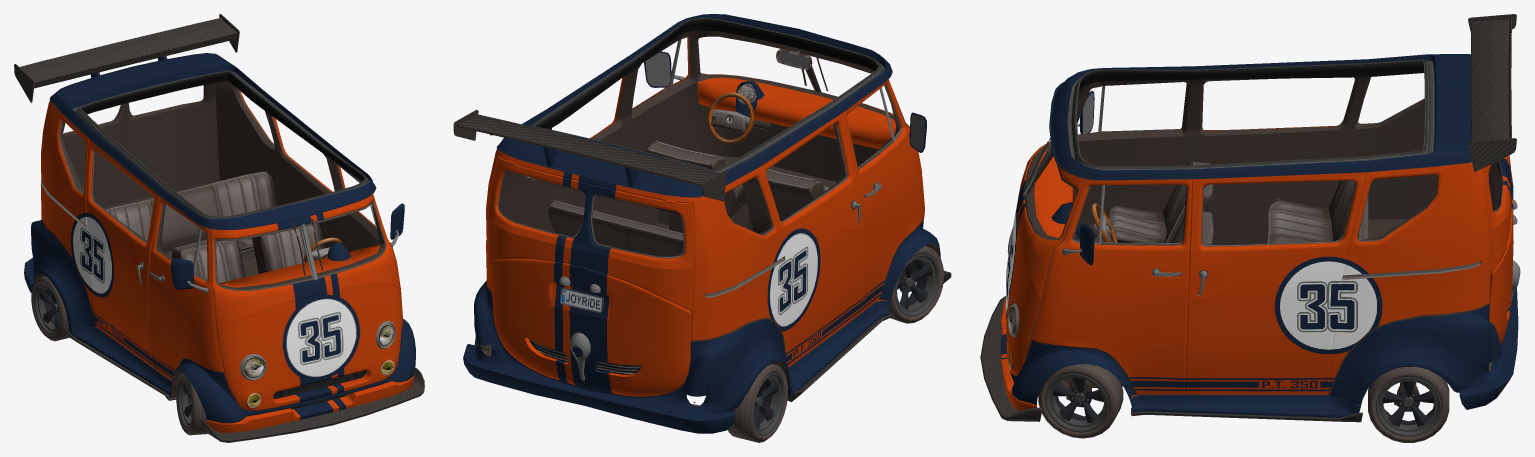
File: camper3.glb
3 views of the same model, side by side, from view 1: azimuth 30°, elevation 25°; view 2: azimuth 150°, elevation 25°; view 3: azimuth 270°, elevation 25° (orthographic). The views are drawn at different scales.
Parts seen in each view (by area): view 1: node_id698, node_id696, node_id597, node_id614, node_id700, node_id604, node_id706, node_id641, node_id704, node_id712, node_id720, node_id684 (+4 smaller); view 2: node_id698, node_id696, node_id597, node_id700, node_id614, node_id672, node_id706, node_id648, node_id641, node_id645, node_id689, node_id583 (+8 smaller); view 3: node_id698, node_id696, node_id700, node_id597, node_id614, node_id706, node_id634, node_id627, node_id604, node_id672, node_id631, node_id638 (+4 smaller).
Boxes of the visible parts, x1,y1,x2,y2 form: node_id698: (31,53,415,432); node_id696: (35,81,402,398); node_id597: (105,171,324,283); node_id614: (14,14,239,102); node_id700: (72,70,369,219); node_id604: (200,368,424,442); node_id706: (41,88,386,290); node_id641: (33,283,60,335); node_id704: (193,204,395,380); node_id712: (273,370,366,409); node_id720: (243,324,394,378); node_id684: (170,258,194,289); node_id698: (474,14,940,414); node_id696: (486,30,940,389); node_id597: (547,140,829,256); node_id700: (530,18,884,173); node_id614: (453,110,726,201); node_id672: (463,344,735,433); node_id706: (486,37,901,297); node_id648: (895,254,939,316); node_id641: (752,372,785,435); node_id645: (728,363,783,442); node_id689: (645,52,684,86); node_id583: (560,287,603,313); node_id698: (1001,54,1513,417); node_id696: (1024,77,1502,394); node_id700: (1067,59,1434,170); node_id597: (1109,161,1368,274); node_id614: (1468,14,1516,171); node_id706: (1024,98,1502,279); node_id634: (1376,377,1441,436); node_id627: (1045,373,1108,432); node_id604: (980,296,1042,421); node_id672: (1459,287,1518,409); node_id631: (1038,364,1123,438); node_id638: (1368,366,1449,442).
Size of the model in its own units: 0.512 by 0.5057 by 0.8266.
58 materials, 58 textured.
